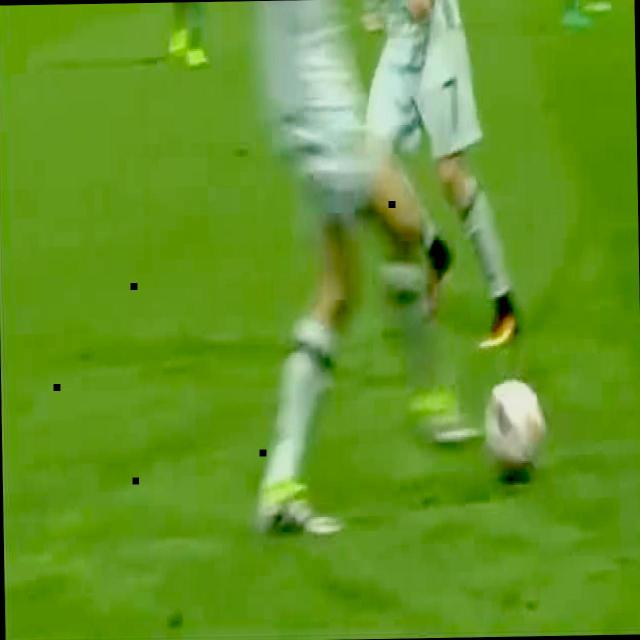ball: (486, 375, 546, 480)
player-white: (222, 0, 469, 536), (328, 0, 522, 358), (157, 2, 215, 64), (558, 0, 612, 32)
